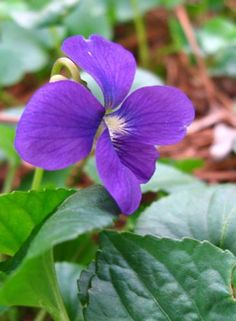violet: (13, 35, 198, 214)
